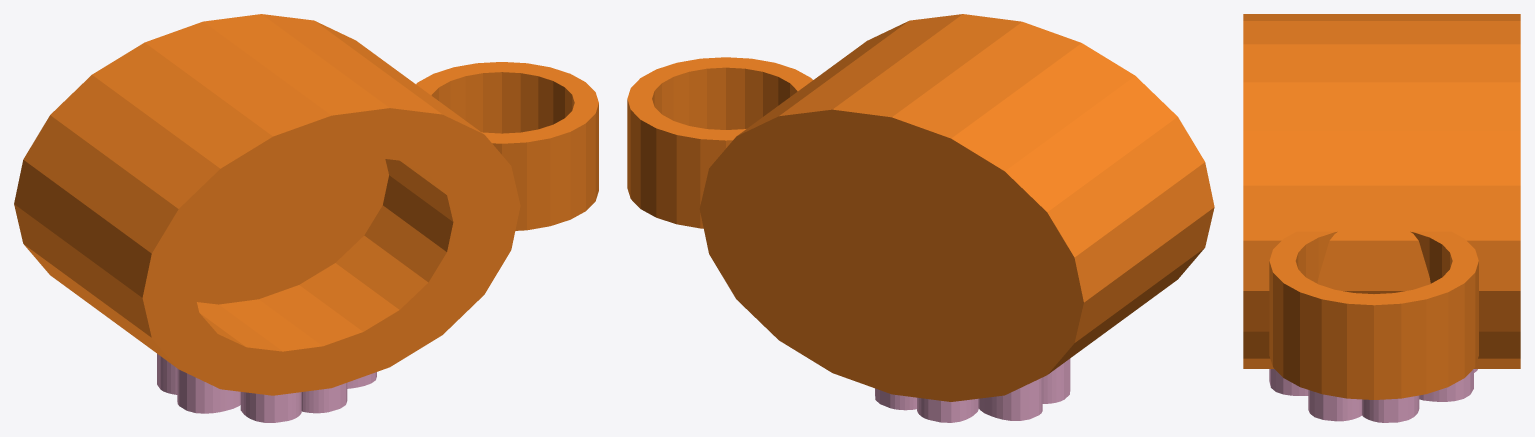
Rendered from tinker.obj.
3 views of the same model, side by side, from view 1: azimuth 30°, elevation 25°; view 2: azimuth 150°, elevation 25°; view 3: azimuth 270°, elevation 25° (orthographic). The views are drawn at different scales.
Parts seen in each view (by area): view 1: group_0_16089887, group_0_15708628; view 2: group_0_16089887, group_0_15708628; view 3: group_0_16089887, group_0_15708628.
Boxes of the visible parts, x1,y1,x2,y2 form: group_0_16089887: [14, 14, 598, 395]; group_0_15708628: [157, 354, 376, 422]; group_0_16089887: [627, 14, 1214, 401]; group_0_15708628: [875, 358, 1070, 422]; group_0_16089887: [1243, 14, 1520, 399]; group_0_15708628: [1269, 369, 1477, 422].
Bounding box in the file's own units: 60 × 35 × 26.5.
